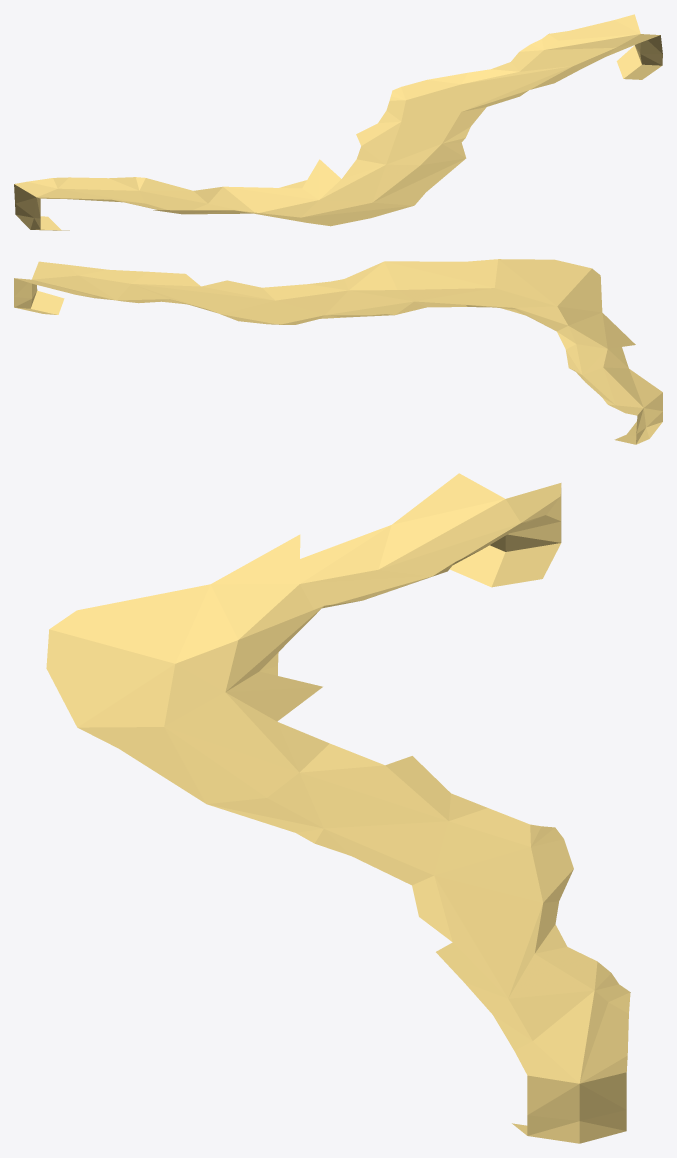
File: bank.gltf
The picture shows the model from 3 angles, top to bottom: view 1: azimuth 30°, elevation 25°; view 2: azimuth 150°, elevation 25°; view 3: azimuth 270°, elevation 25°; orthographic projection. The views are drawn at different scales.
Visible parts, largest first — view 1: Plane.001; view 2: Plane.001; view 3: Plane.001.
Part boxes in pixels (box(x1,y1,x2,y2)): Plane.001: box(14, 14, 662, 230); Plane.001: box(14, 259, 662, 444); Plane.001: box(46, 473, 630, 1143).
Bounding box in the file's own units: 16.05 × 1.37 × 6.67.
1 material, 1 textured.
